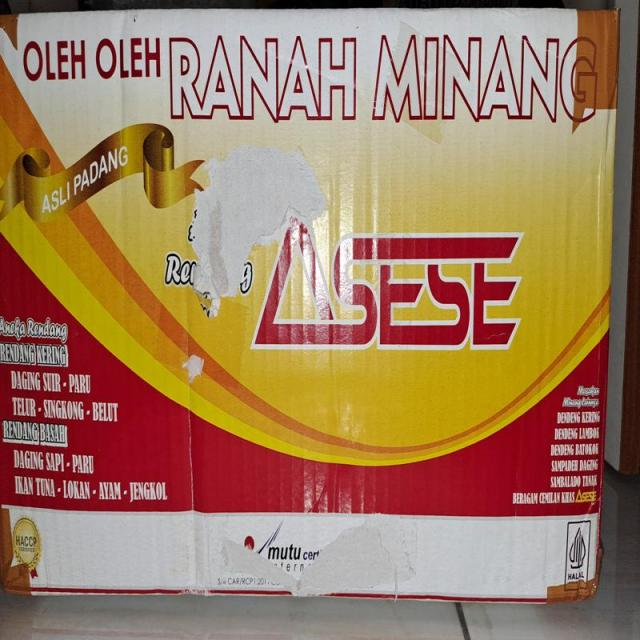Organik: (5, 17, 616, 595)
